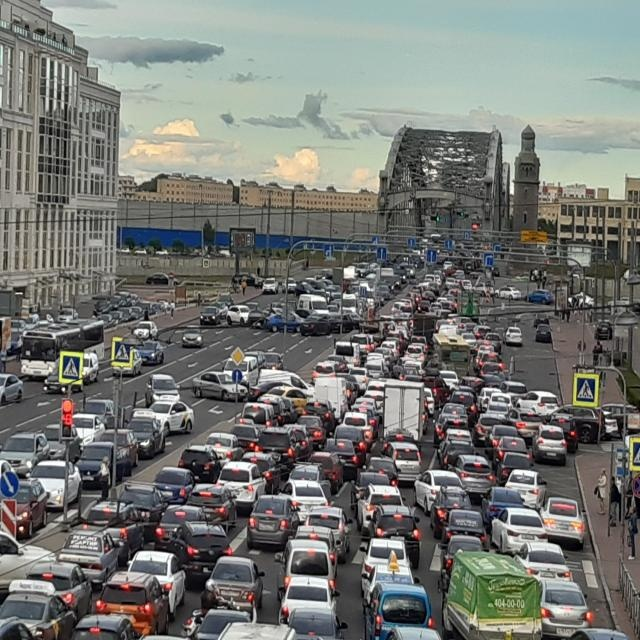Bus: (13, 312, 108, 380)
